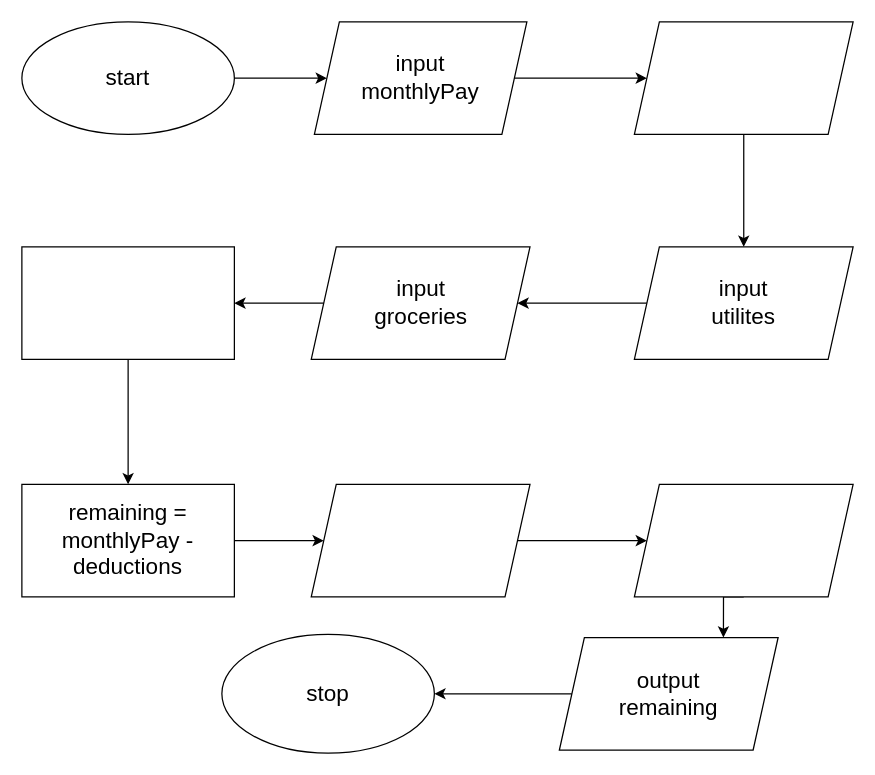
Image size: 875x775. Some labels were removed from this diagram. The shapes that lost their labels are listed below. From the top down, each one's centre as x and y in pixels, then its label:
At point (743, 77): "input rent".
At point (127, 302): "deductions = rent + utilites + groceries".
At point (420, 540): "output monthlyPay".
At point (743, 540): "output deductions".
